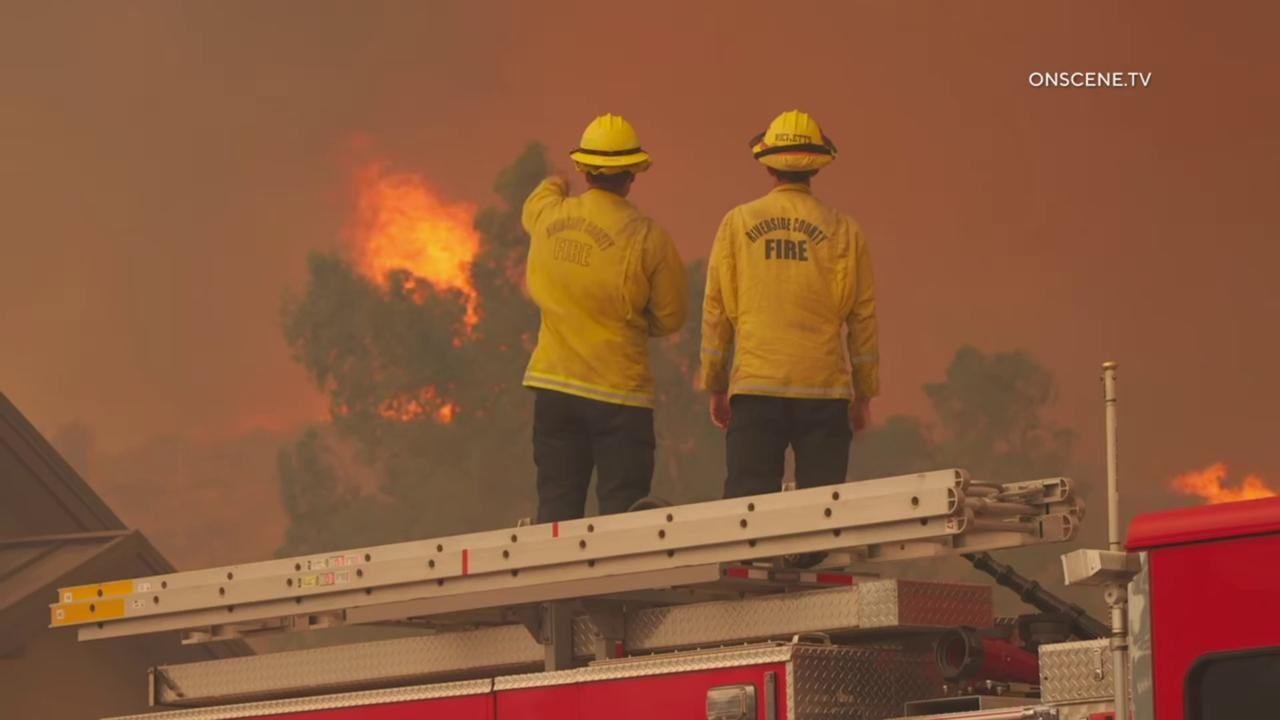fire: (324, 133, 486, 345), (1166, 460, 1279, 503), (372, 380, 462, 427), (315, 401, 352, 425)
smoke: (0, 0, 1280, 580)
